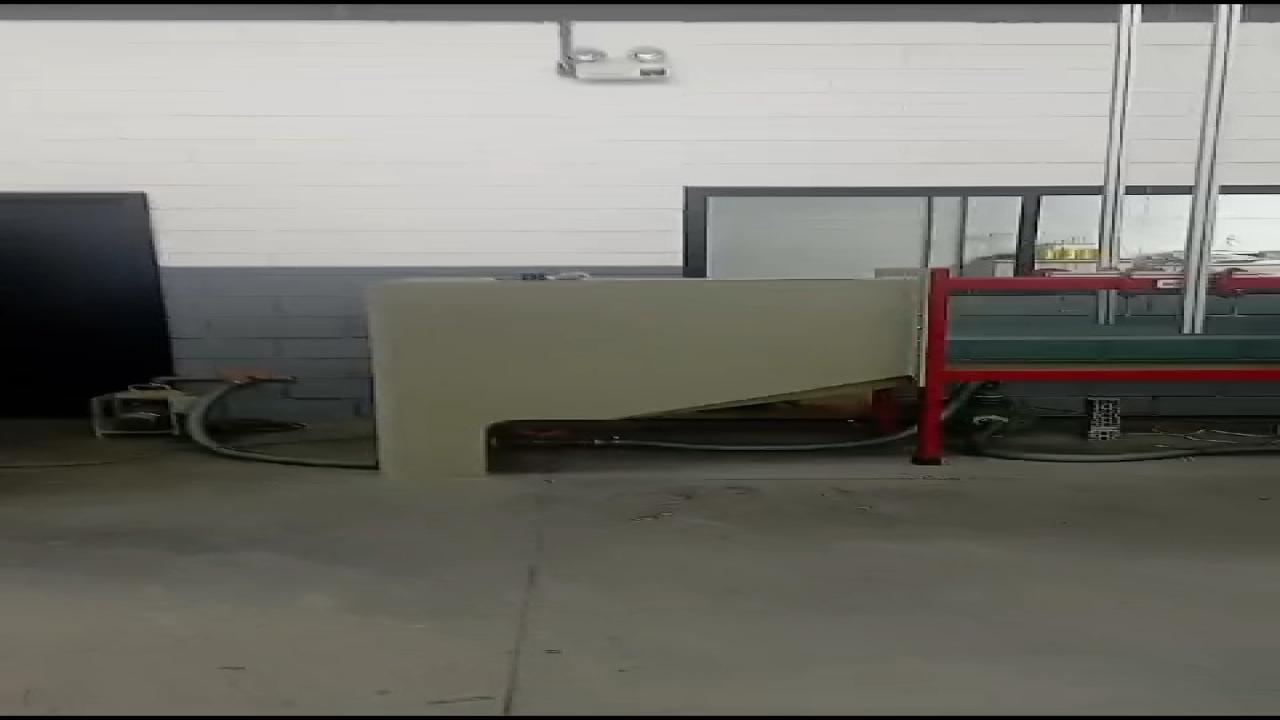Cube: (518, 272, 548, 280)
